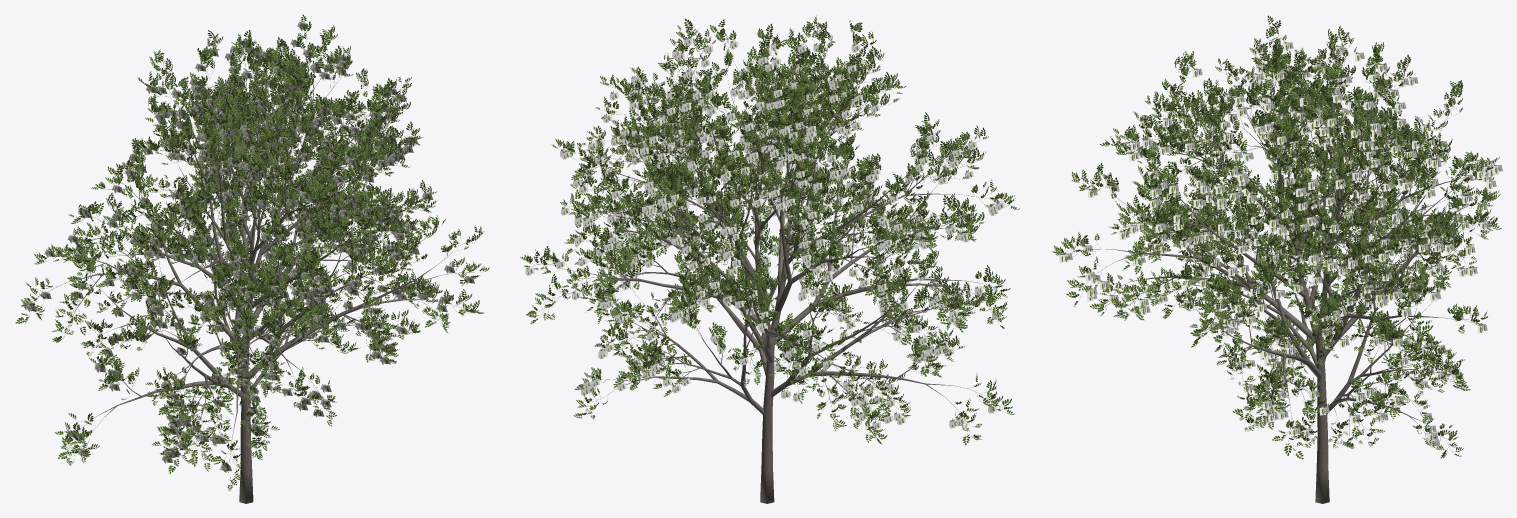
The model's file is tree.fbx.
3 renders of one model, left to right at view 1: azimuth 30°, elevation 25°; view 2: azimuth 150°, elevation 25°; view 3: azimuth 270°, elevation 25°, orthographic.
Visible parts, largest first — view 1: leaf, fruits, tree; view 2: leaf, fruits, tree; view 3: leaf, fruits, tree.
Part boxes in pixels (x1,y1,x2,y2): leaf: [15, 14, 489, 490]; fruits: [22, 21, 474, 471]; tree: [31, 29, 474, 503]; leaf: [520, 15, 1019, 445]; fruits: [525, 37, 1004, 430]; tree: [533, 30, 1004, 503]; leaf: [1052, 15, 1501, 459]; fruits: [1059, 41, 1502, 448]; tree: [1065, 36, 1488, 503].
Size of the model in its own units: 1762 by 1902 by 1643.
4 materials, 4 textured.
